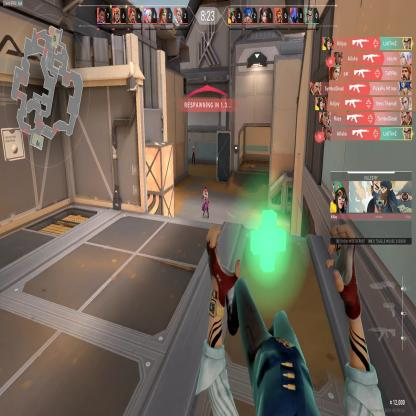enemy: (200, 184, 210, 218), (191, 144, 196, 166)
